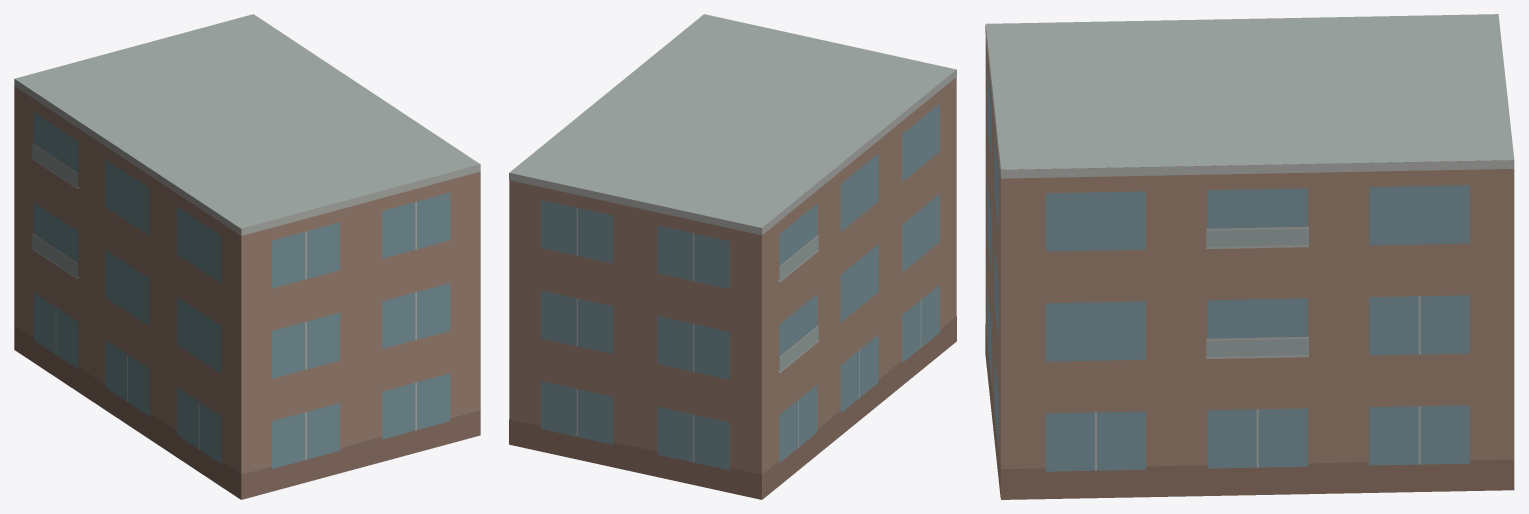
File: survey-upis-32808492.glb
3 renders of one model, left to right at view 1: azimuth 30°, elevation 25°; view 2: azimuth 150°, elevation 25°; view 3: azimuth 270°, elevation 25°, orthographic. The views are drawn at different scales.
Visible parts, largest first — view 1: survey-upis-32808492.tmp; view 2: survey-upis-32808492.tmp; view 3: survey-upis-32808492.tmp.
Part boxes in pixels (box(x1,y1,x2,y2)): survey-upis-32808492.tmp: box(14, 14, 480, 499); survey-upis-32808492.tmp: box(509, 14, 956, 499); survey-upis-32808492.tmp: box(985, 14, 1514, 499).
Bounding box in the file's own units: 9.27 × 9.15 × 13.3.
